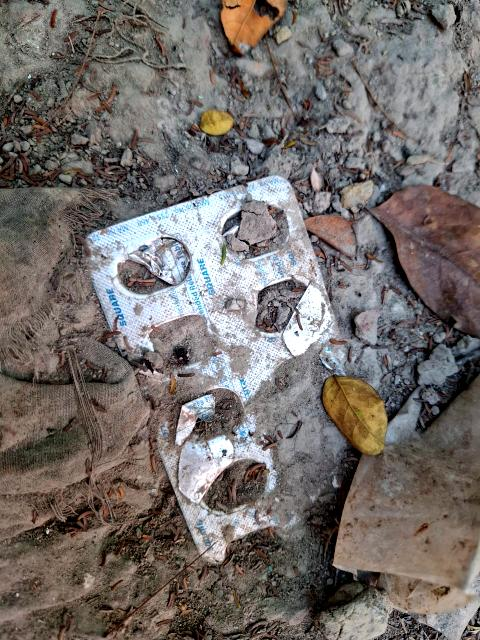medicine: (80, 168, 377, 556)
